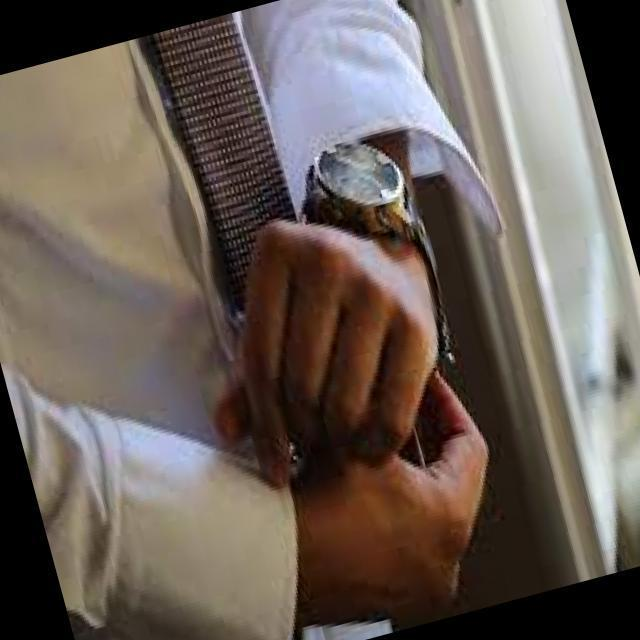Watch: (303, 136, 440, 264)
